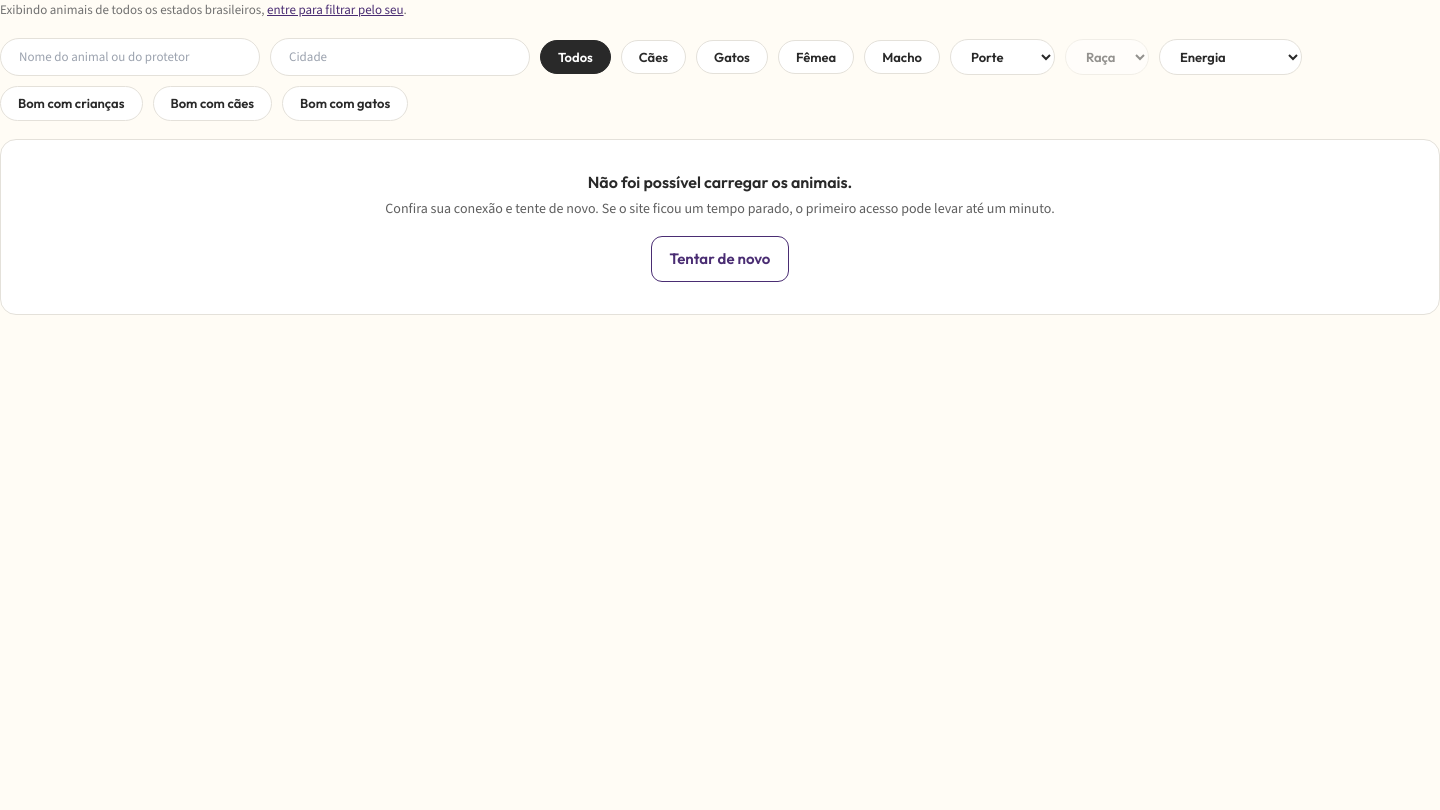
Test: busca na API › avisa quando a API falha e deixa tentar de novo
Check: the message shows "Não foi possível carregar os animais", box [588,172,852,192]
Click the button "Tentar de novo" at (720, 259), box [651,236,789,282]
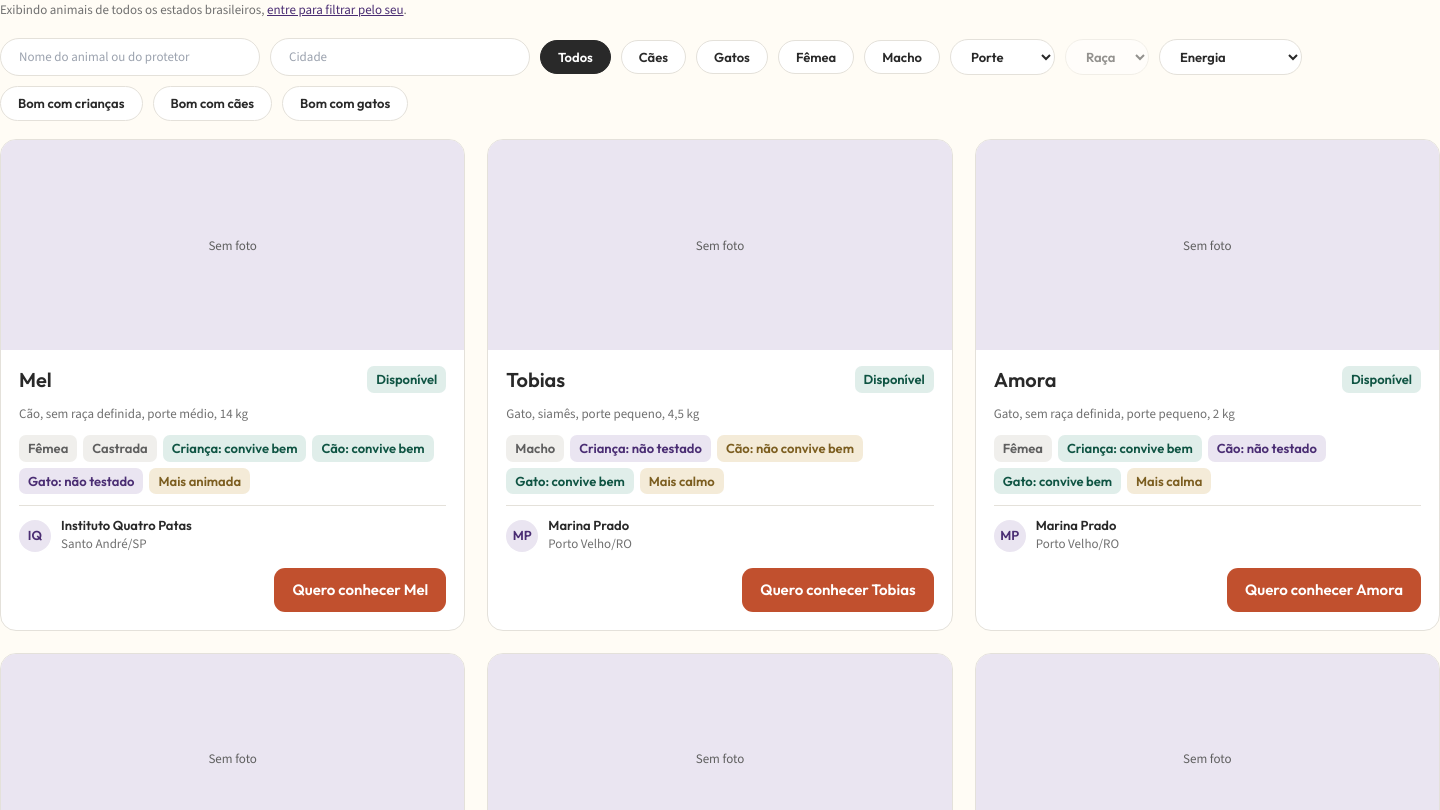
Check: the number of headings is 6
